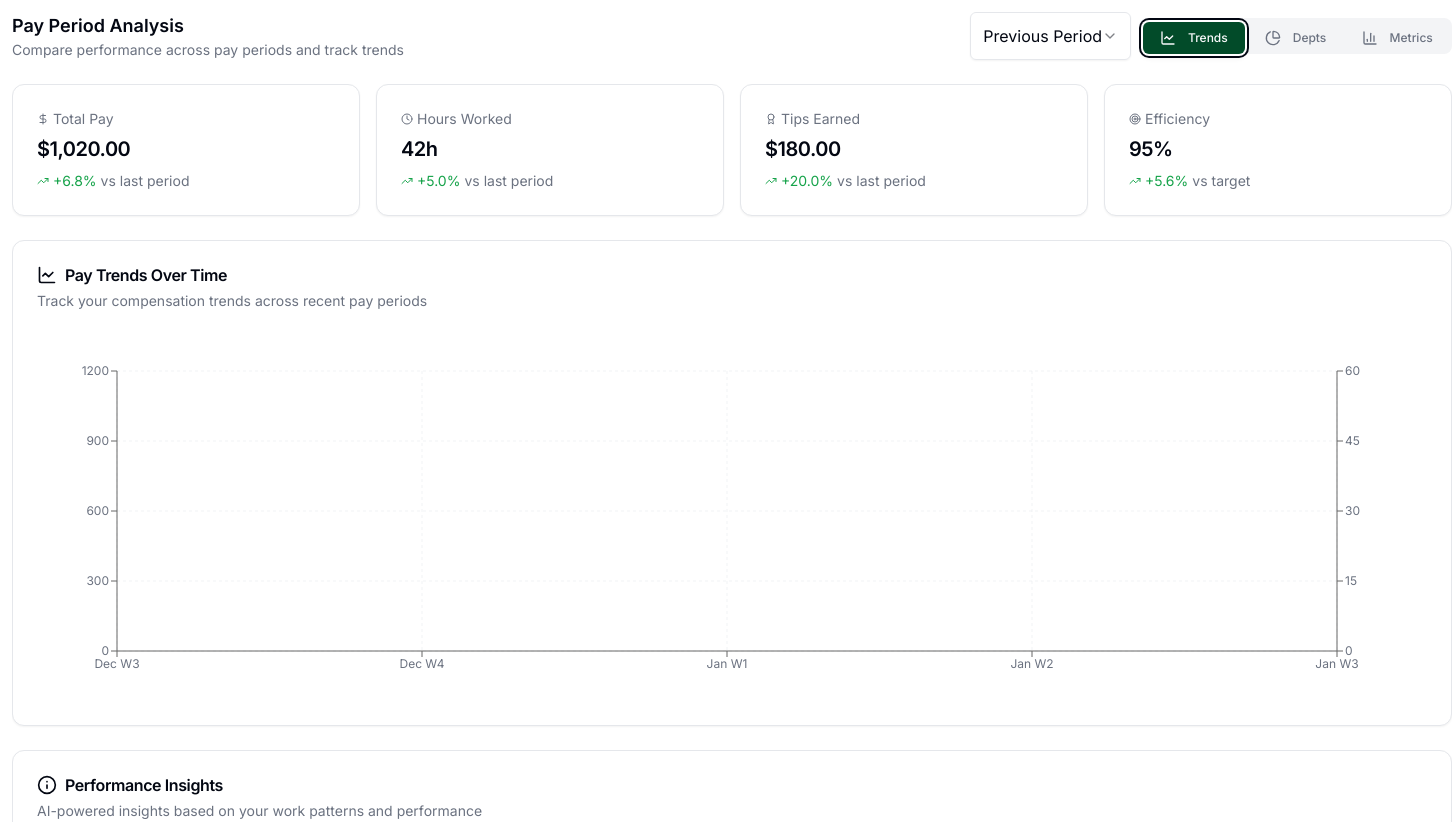
Test case: PayPeriodAnalysis Accessibility › supports keyboard navigation
# Navigate to departments tab with keyboard
Press ArrowRight in the tab "Trends", box [1143,22,1245,54]
Click the tab "Depts" at x=1296, y=38, box [1245,22,1346,54]
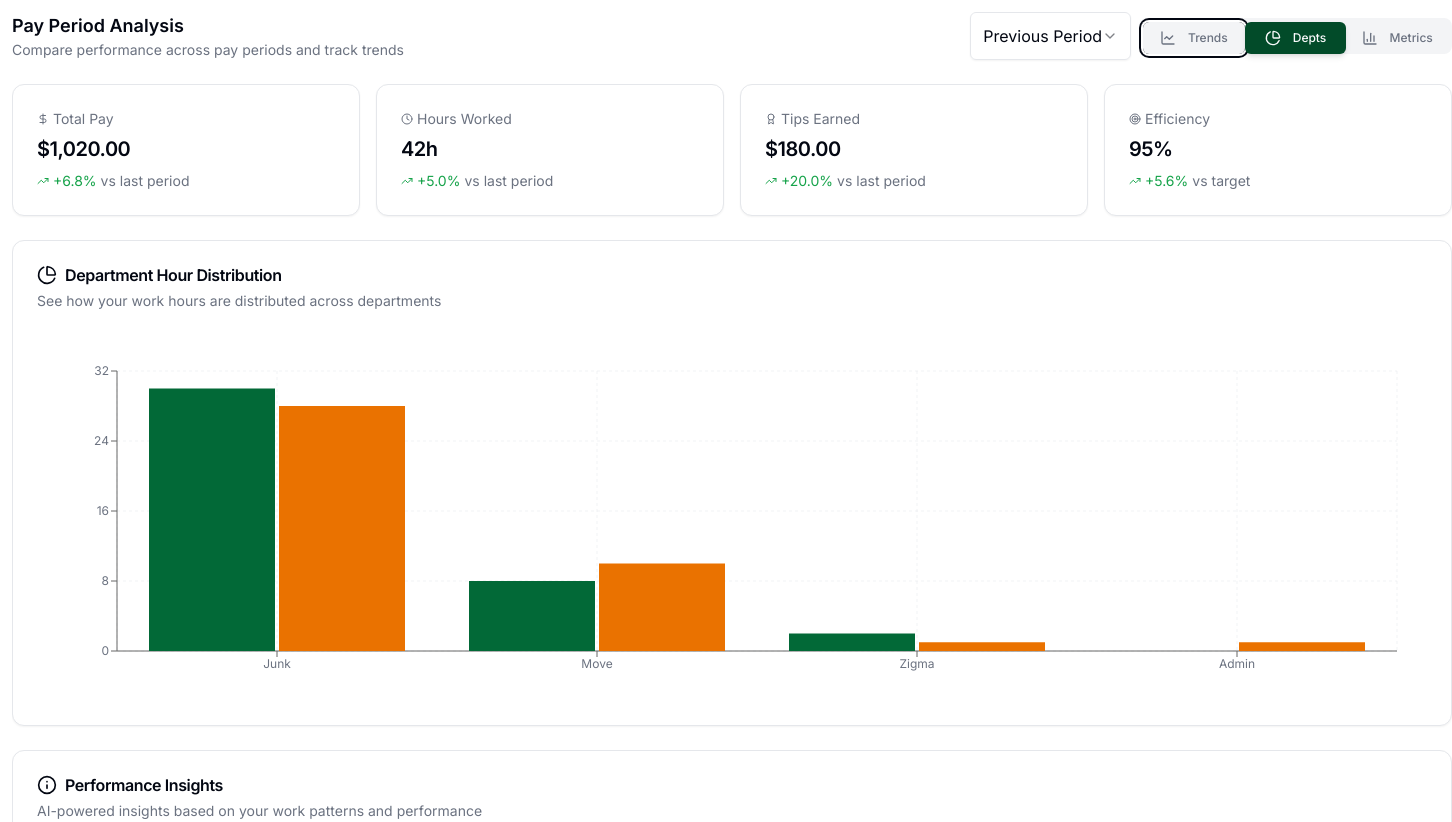
Now the text "Department Hour Distribution" is shown, box [37,265,282,285]
